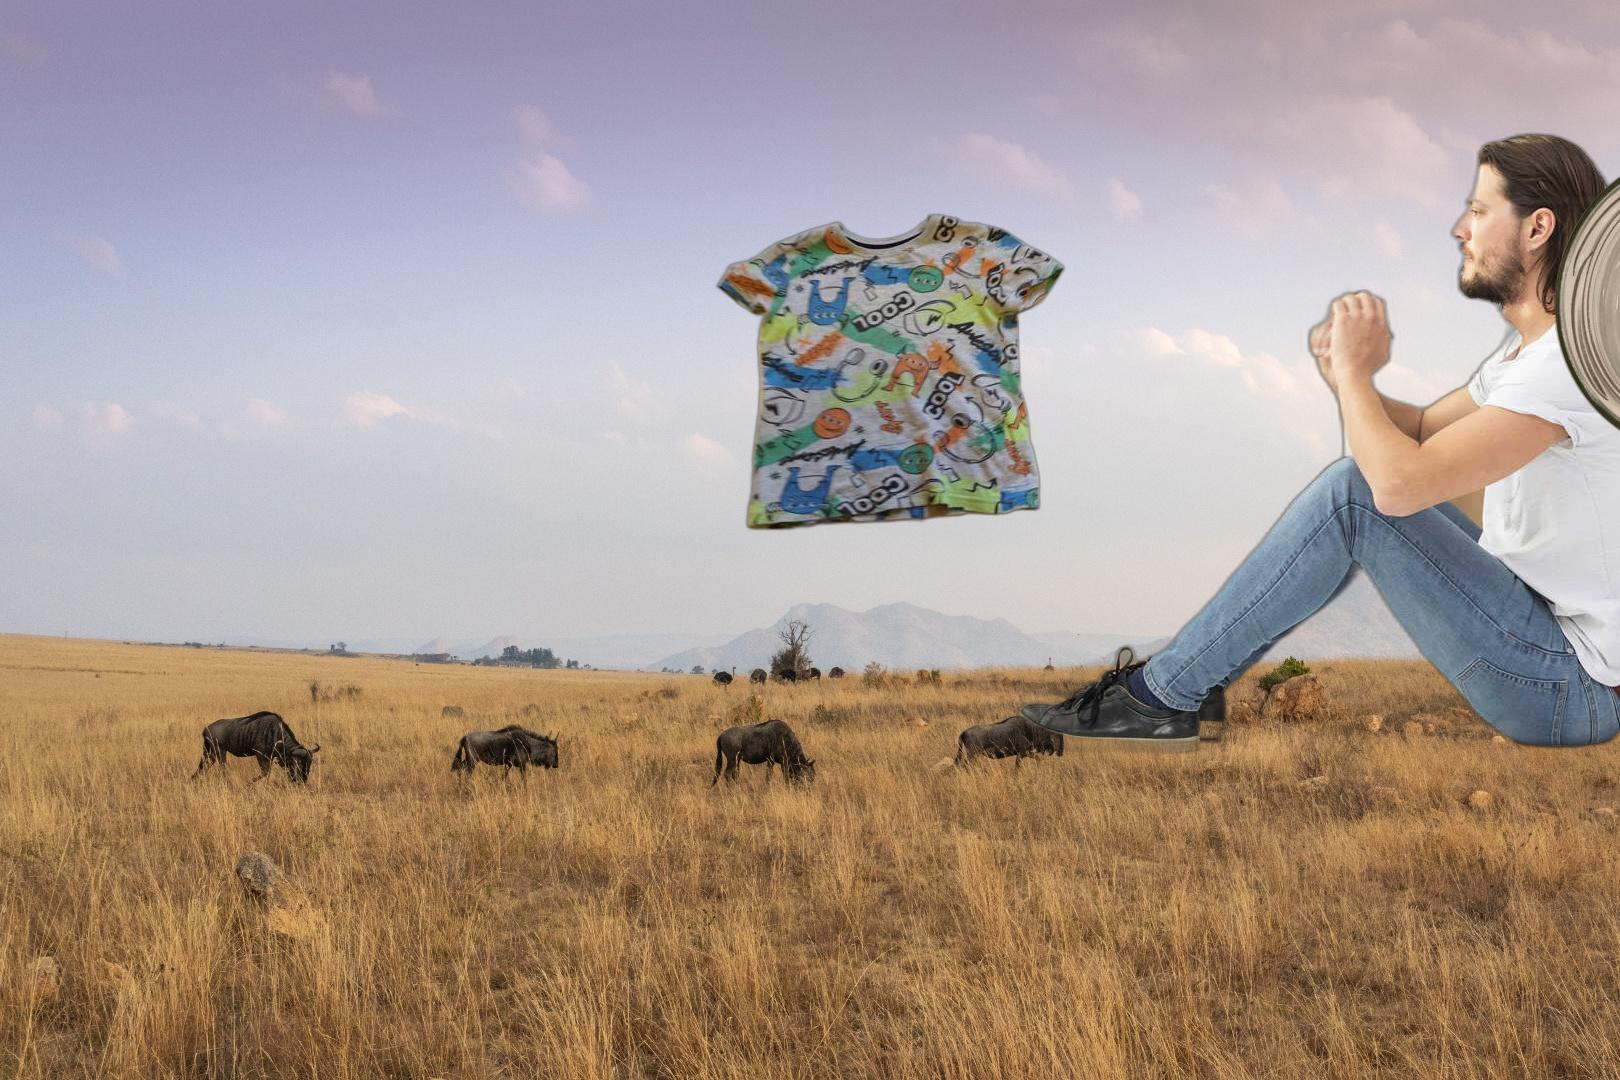clothes: (714, 210, 1068, 534)
glass: (1550, 146, 1620, 458)
trashbox-cardboard: (1016, 127, 1620, 761)
